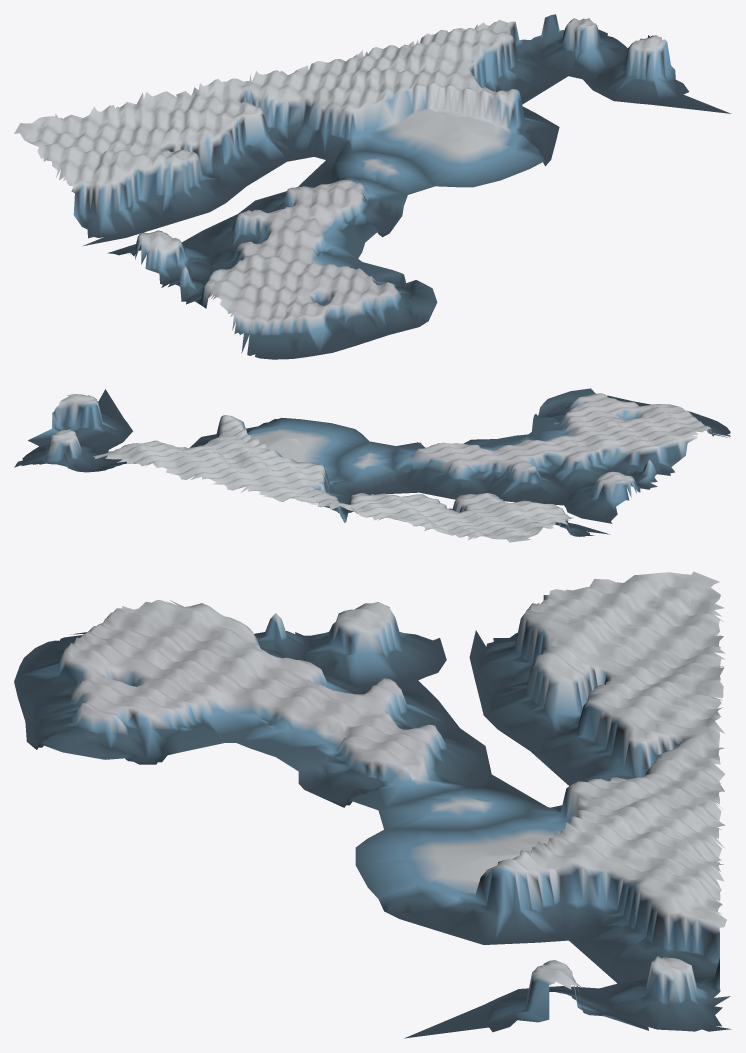
Rendered from frost_tile_x1z1_lod1.glb.
3 views of the same model, one above another, from view 1: azimuth 30°, elevation 25°; view 2: azimuth 150°, elevation 25°; view 3: azimuth 270°, elevation 25° (orthographic). The views are drawn at different scales.
Visible parts, largest first — view 1: geometry_0; view 2: geometry_0; view 3: geometry_0.
Part boxes in pixels (x1,y1,x2,y2): geometry_0: (14, 14, 731, 359); geometry_0: (14, 388, 730, 542); geometry_0: (14, 571, 731, 1038).
Size of the model in its own units: 1020 by 78.36 by 757.
